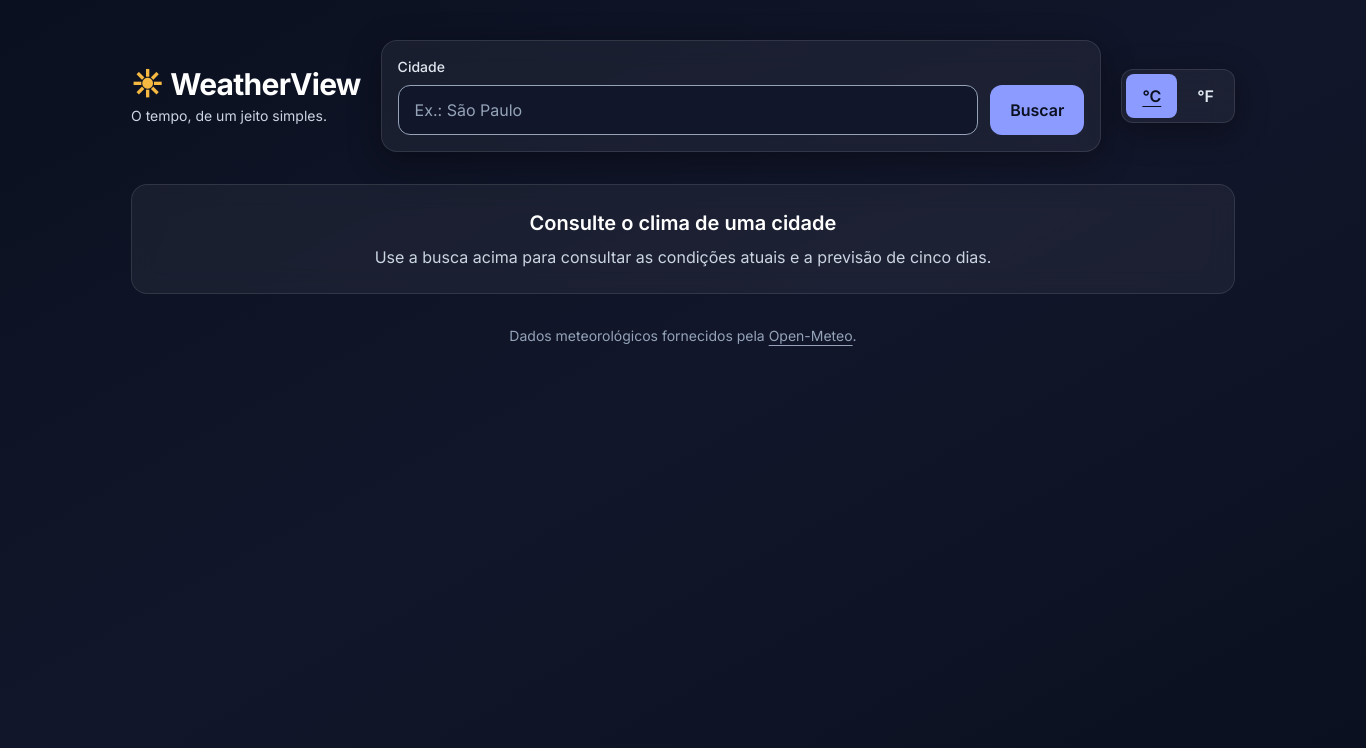
Test: App › mostra empty sem previsão antiga nem nova consulta de forecast
The image size is (1366, 748).
Type "Salvador" into the search field labelled "Cidade" at (688, 110), box [398,85,978,135]
Then press Enter
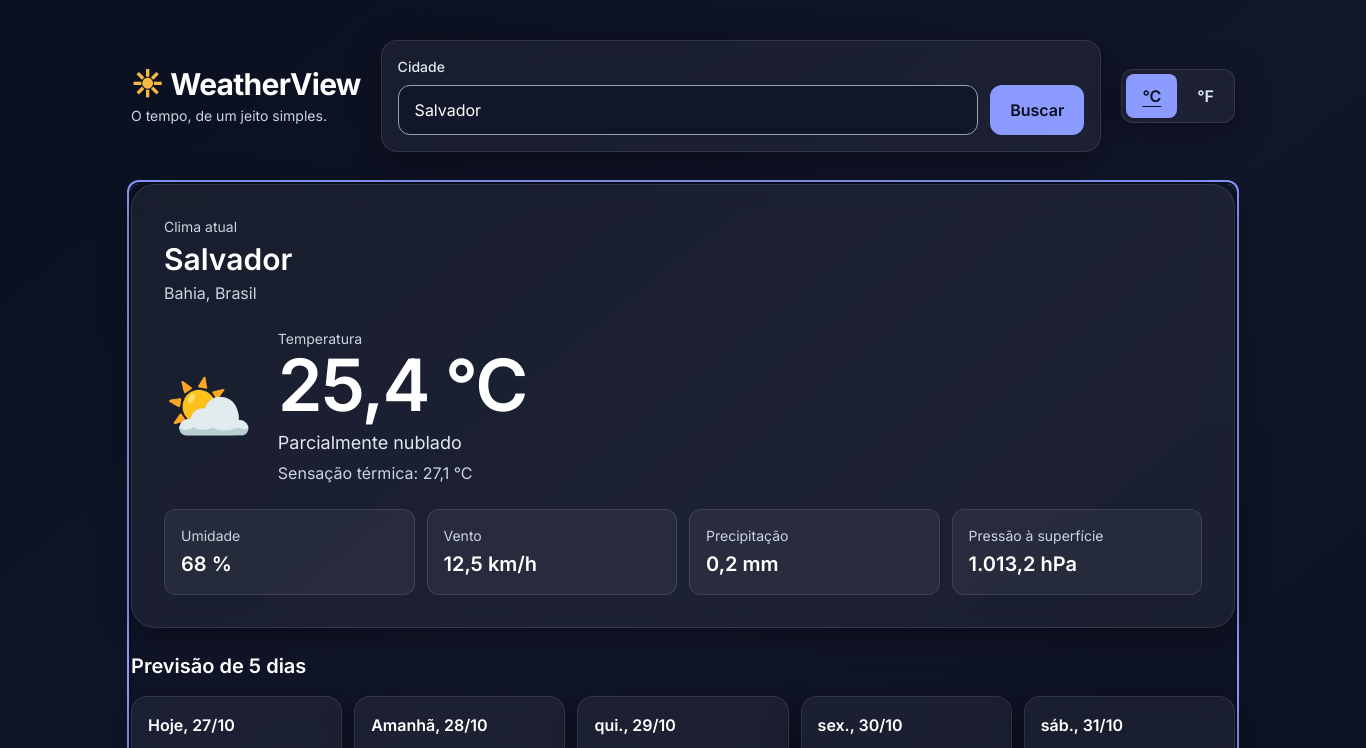
Now the element "Salvador" is shown, box [131,184,1235,628]
Replace the text in the search field labelled "Cidade" with "Inexistente" at (688, 110), box [398,85,978,135]
Then press Enter
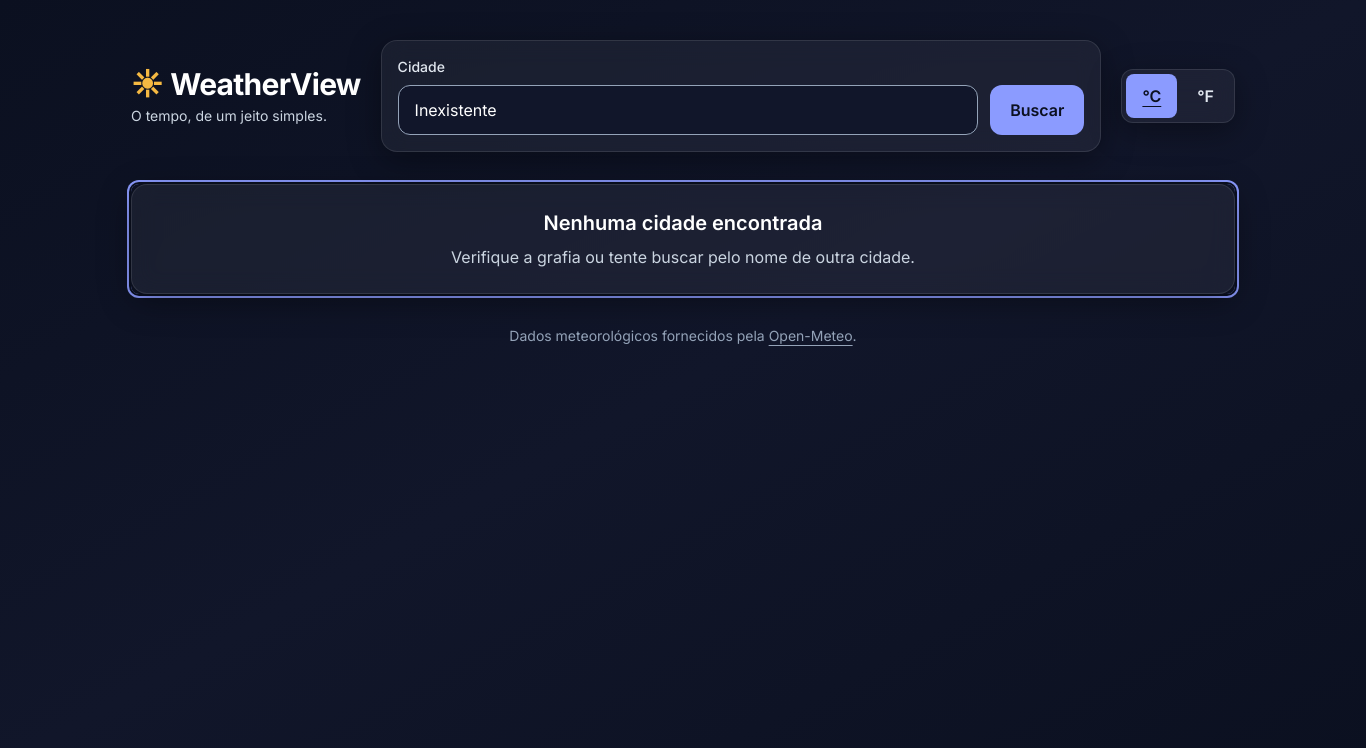
Now the element "Nenhuma cidade encontrada" is shown, box [131,184,1235,294]
